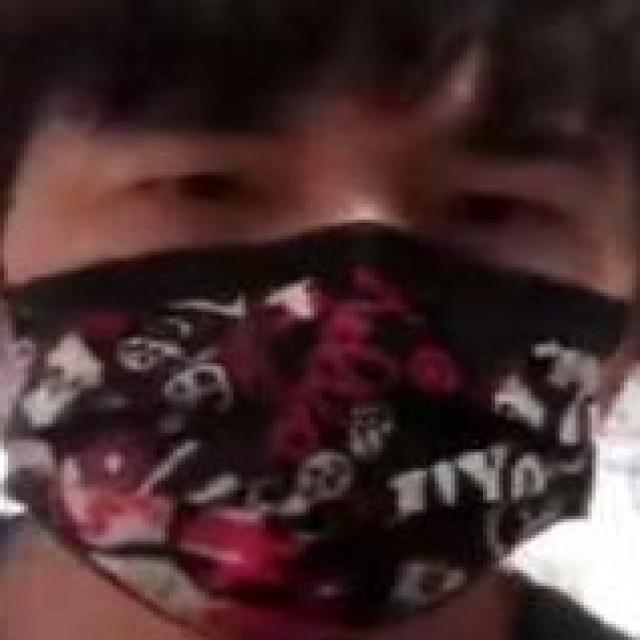mask: (9, 87, 611, 638)
